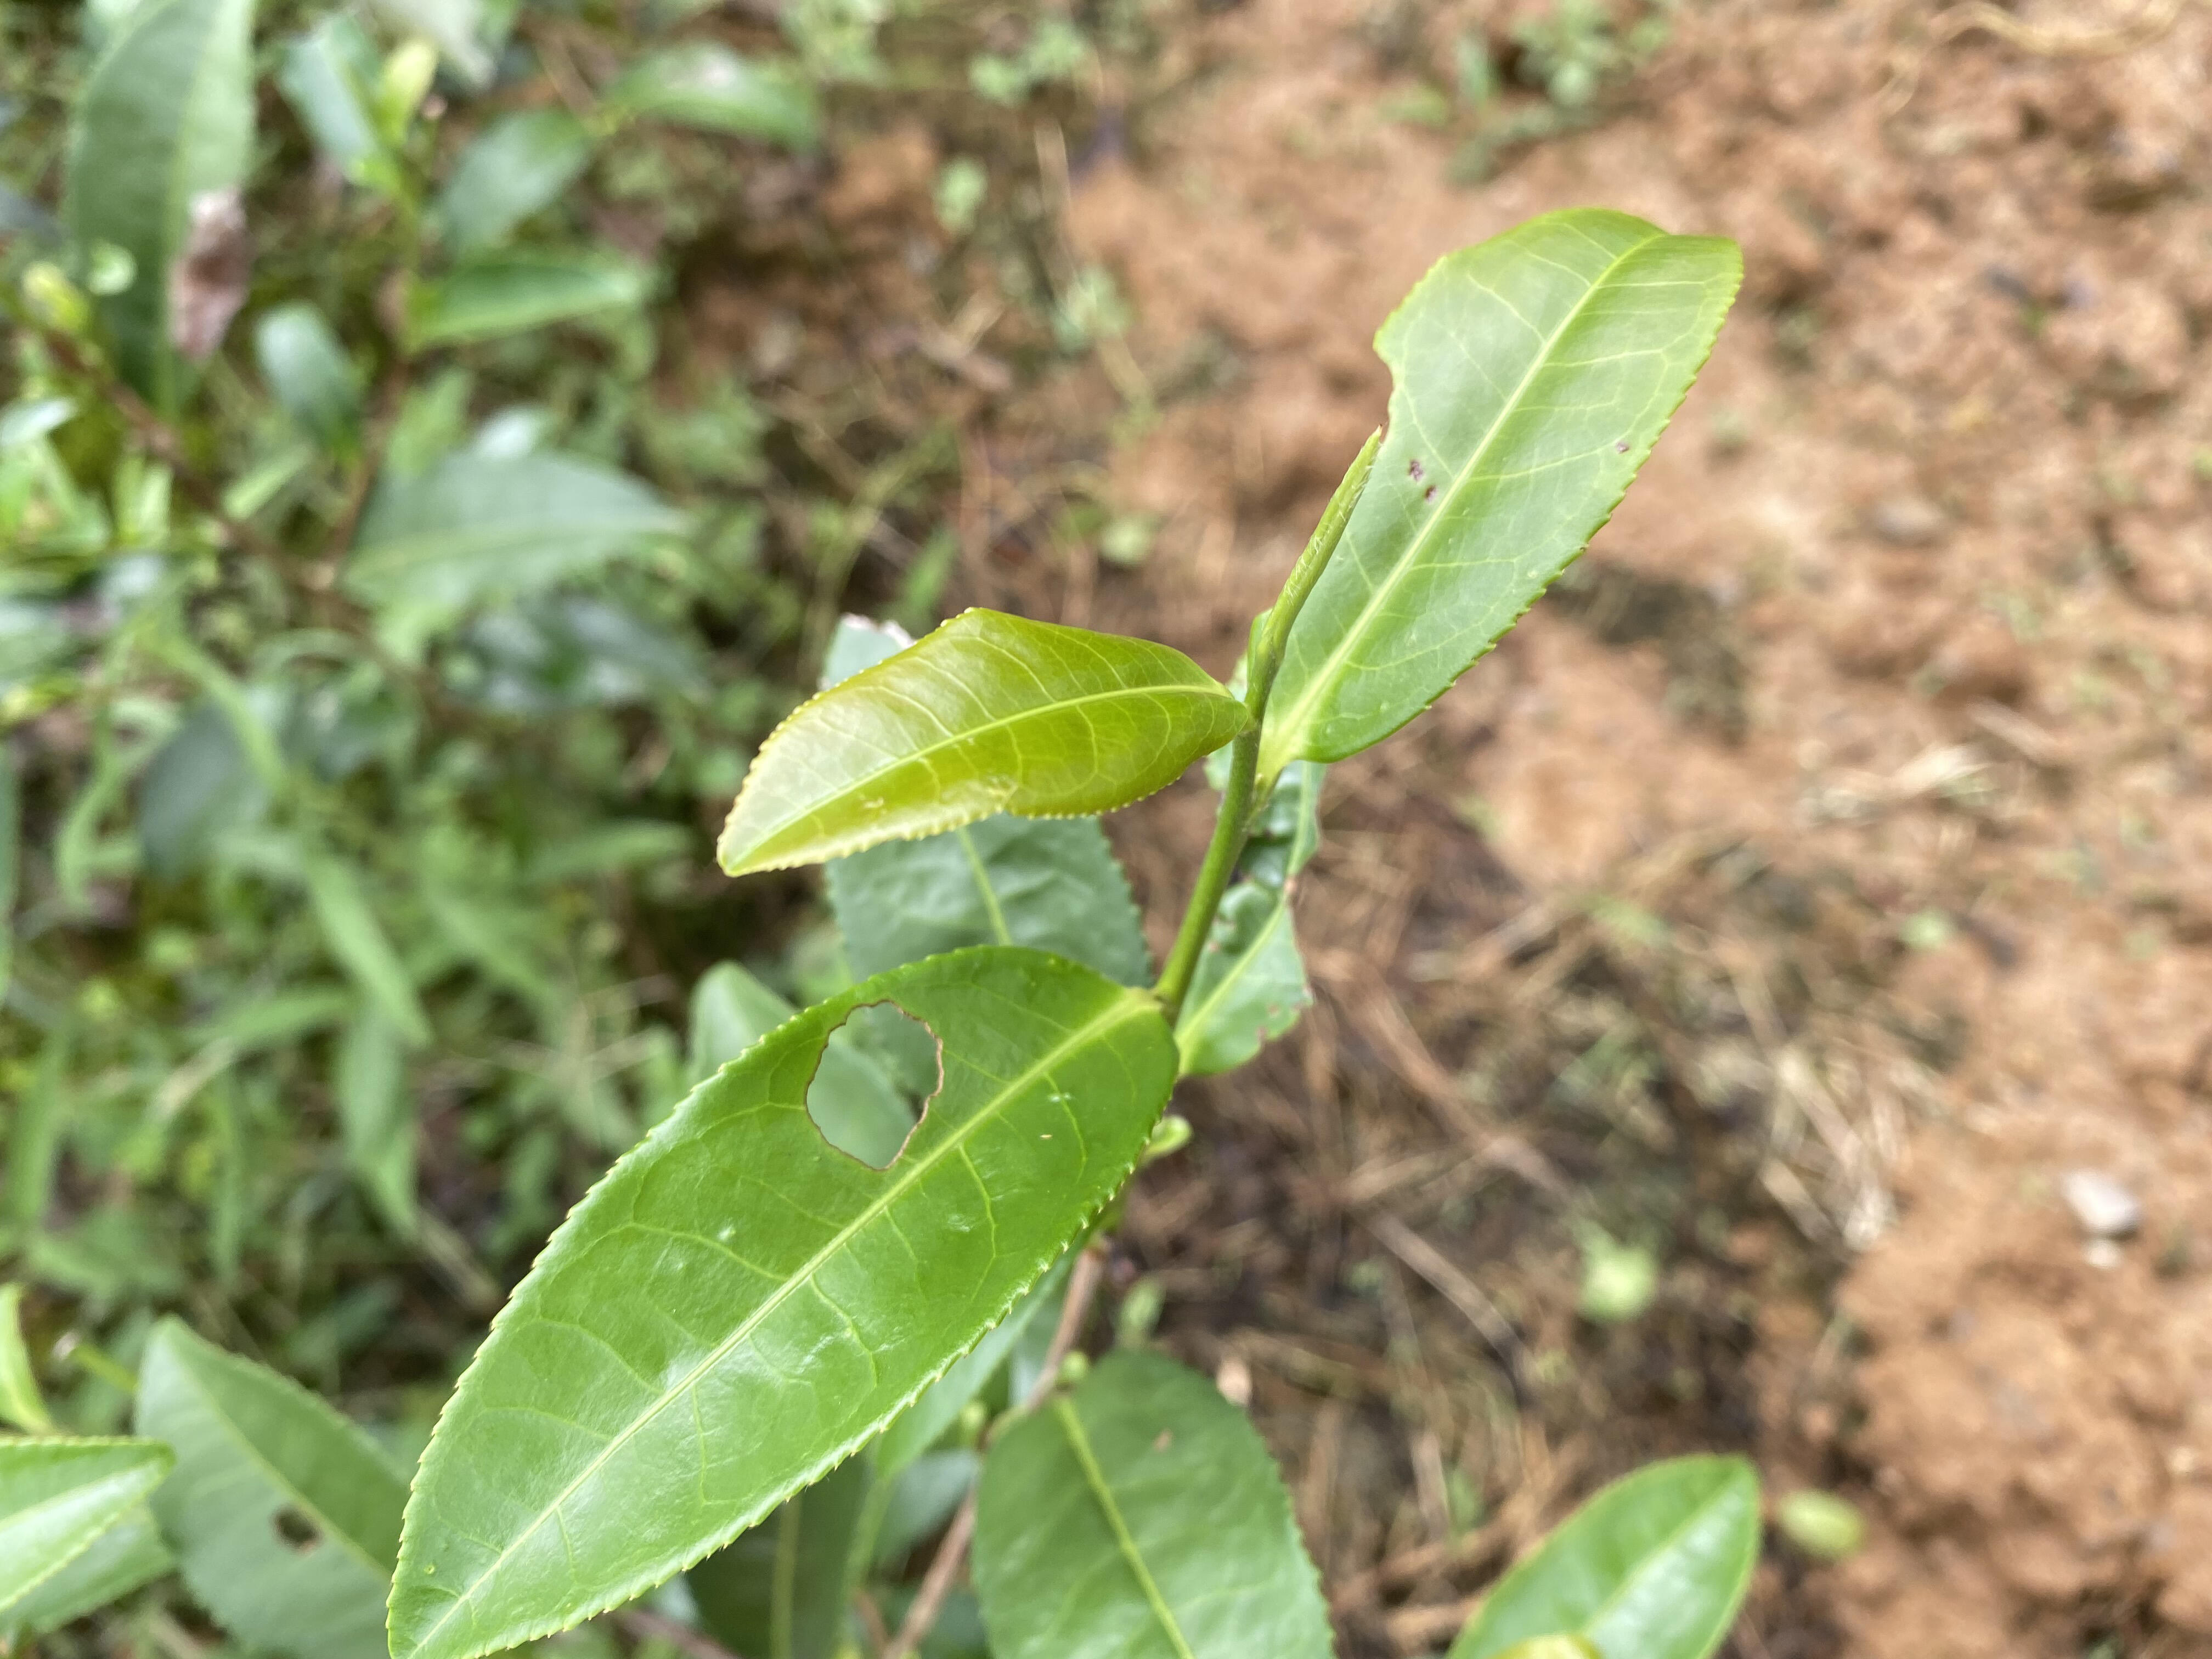chihuo_low: (385, 943, 1179, 1659)
healthy: (718, 603, 1249, 880)
